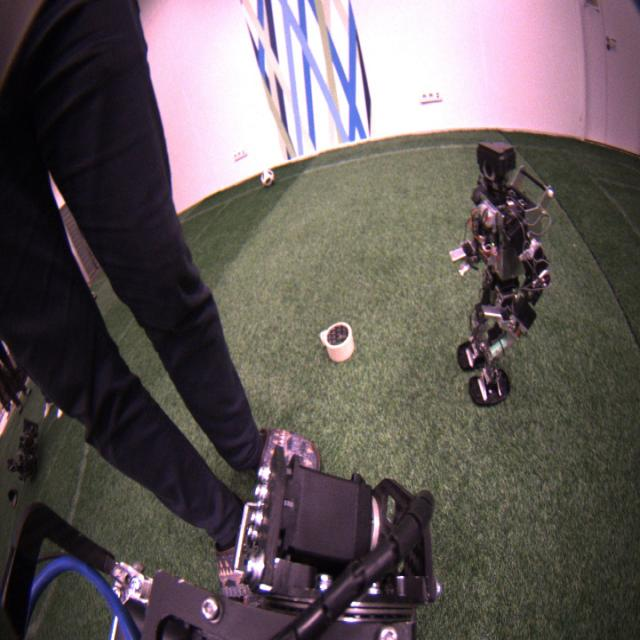ball: (261, 170, 275, 188)
